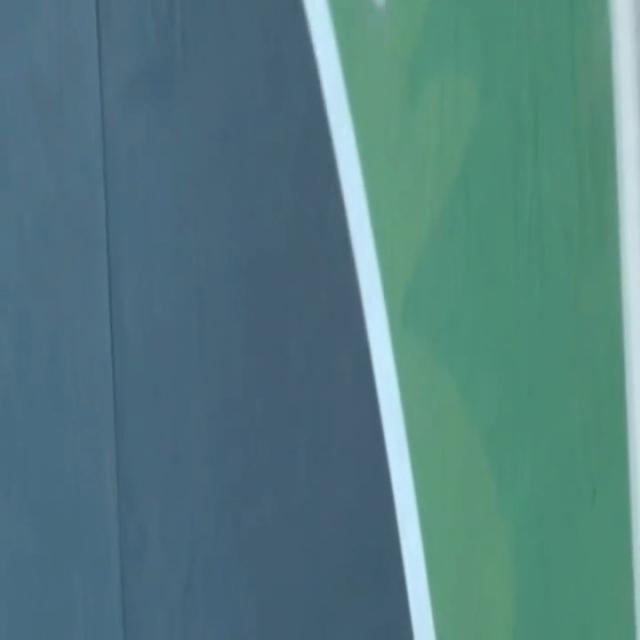right: (302, 0, 435, 639)
